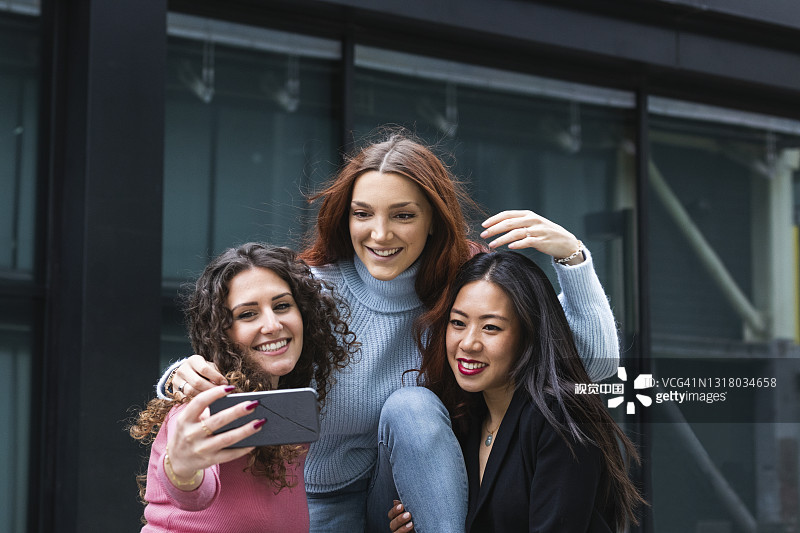no-phone: (475, 197, 591, 267)
taking photos: (144, 379, 329, 498)
